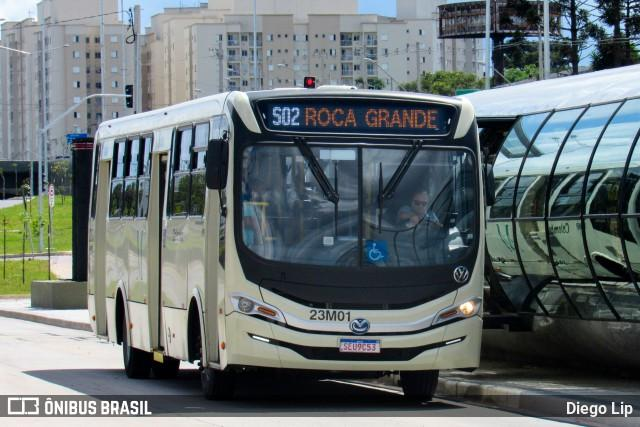ROCA GRANDE: (301, 103, 442, 134)
